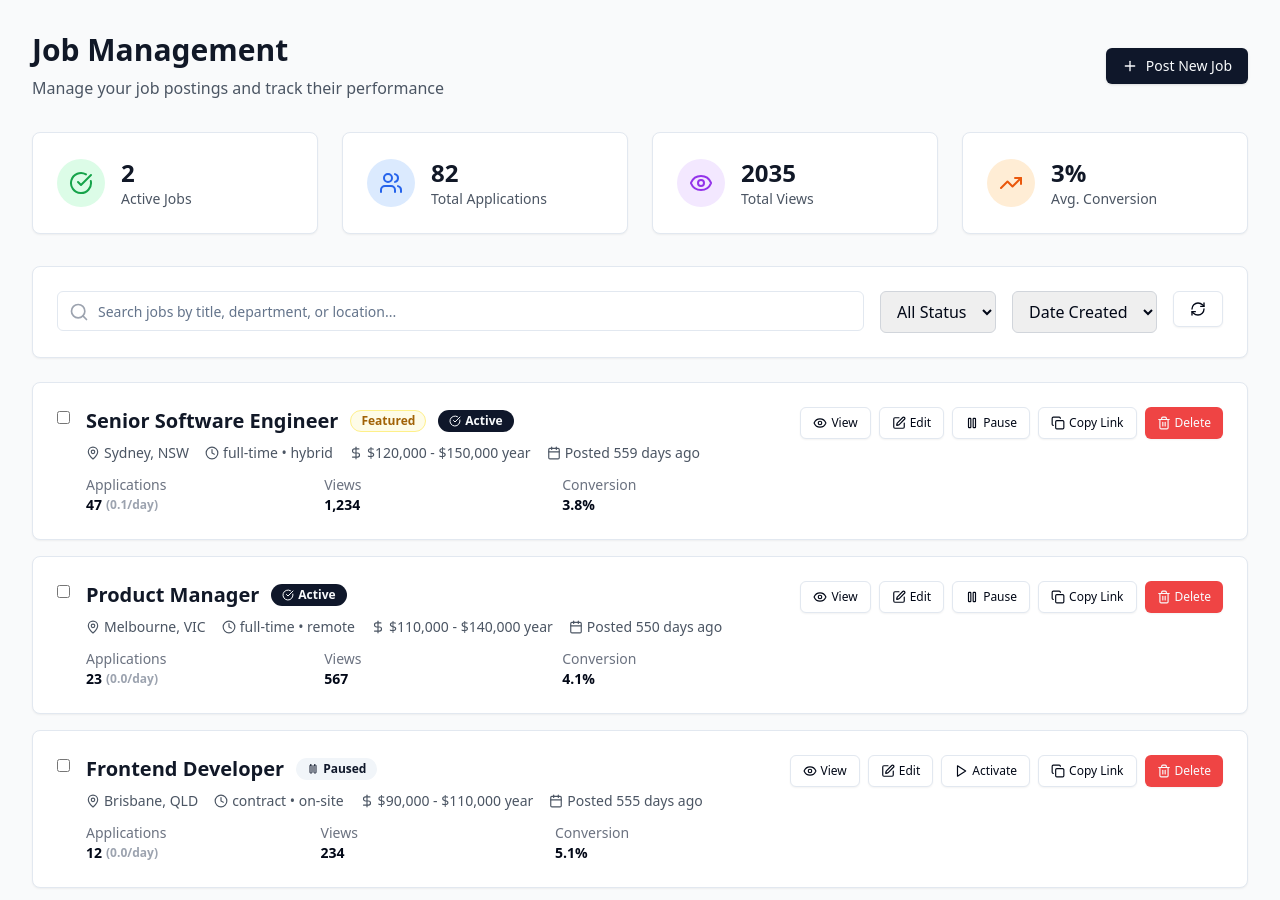
Test: JobManagementPage › displays empty state when no jobs match filters
The width and height of the screenshot is (1280, 900).
Check: the heading "Senior Software Engineer" is shown, box [86,407,338,435]
Search for non-existent job
In the field with placeholder "Search jobs by title, department, or location...": (460, 311) [57,291,864,331], type "NonexistentJob"
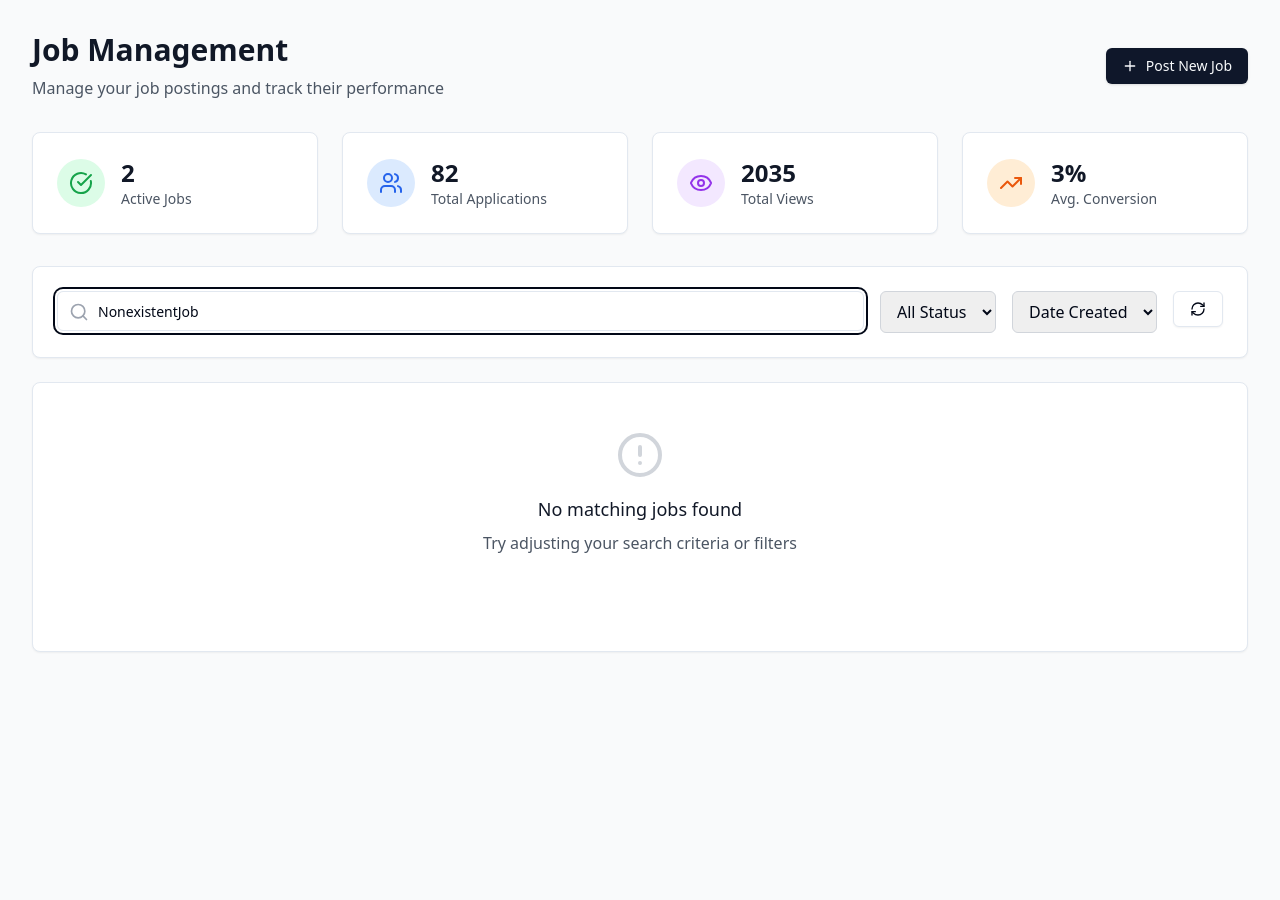
Check: the heading "No matching jobs found" is shown, box [538,497,742,521]
Check: the text "Try adjusting your search criteria or filters" is shown, box [483,532,797,554]
